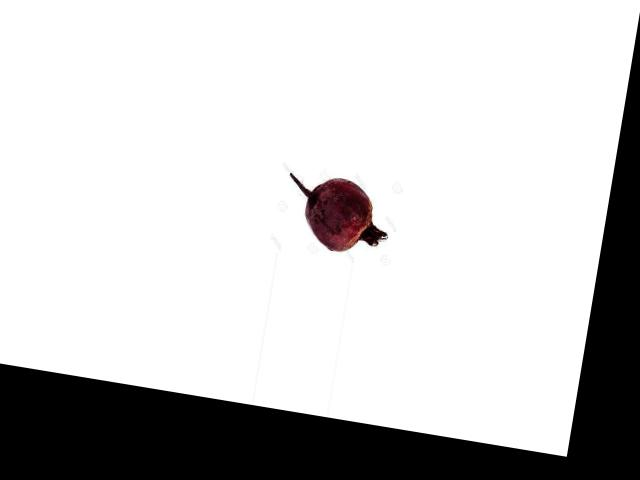beet: (280, 170, 395, 257)
